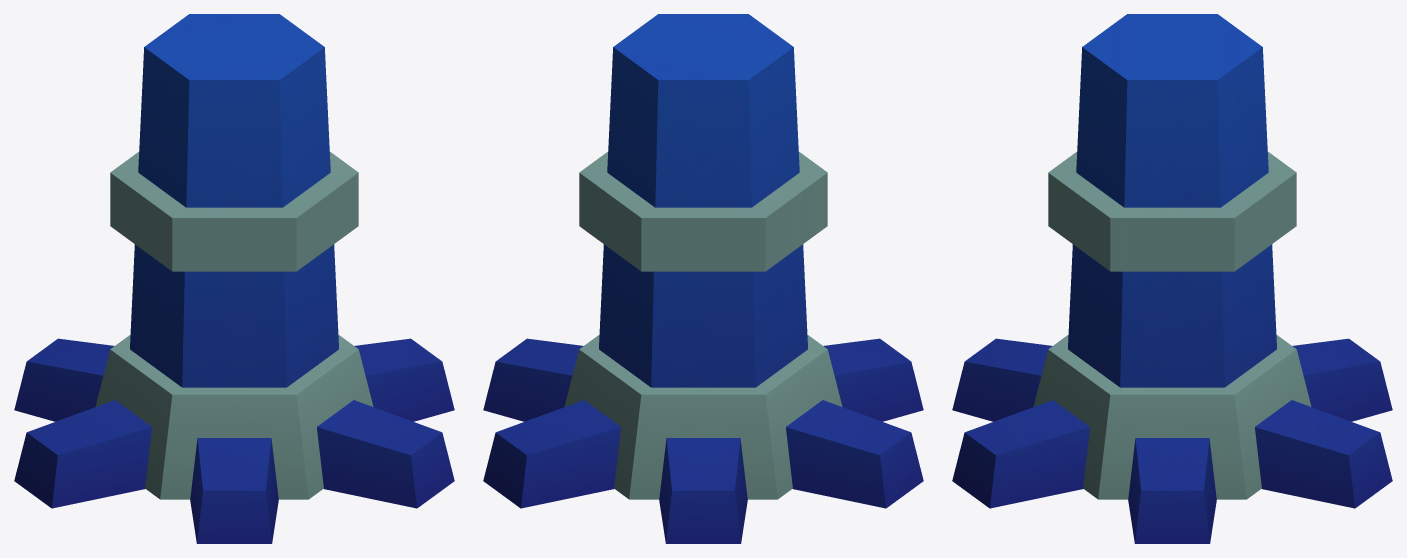
The model's file is laser-spin.fbx.
3 renders of one model, left to right at view 1: azimuth 30°, elevation 25°; view 2: azimuth 150°, elevation 25°; view 3: azimuth 270°, elevation 25°, orthographic.
Parts seen in each view (by area): view 1: laser-spin; view 2: laser-spin; view 3: laser-spin.
Boxes of the visible parts, bbox=[...] form: laser-spin: bbox=[14, 14, 454, 543]; laser-spin: bbox=[483, 14, 923, 543]; laser-spin: bbox=[952, 14, 1392, 543].
Bounding box in the file's own units: 121 × 114 × 114.
